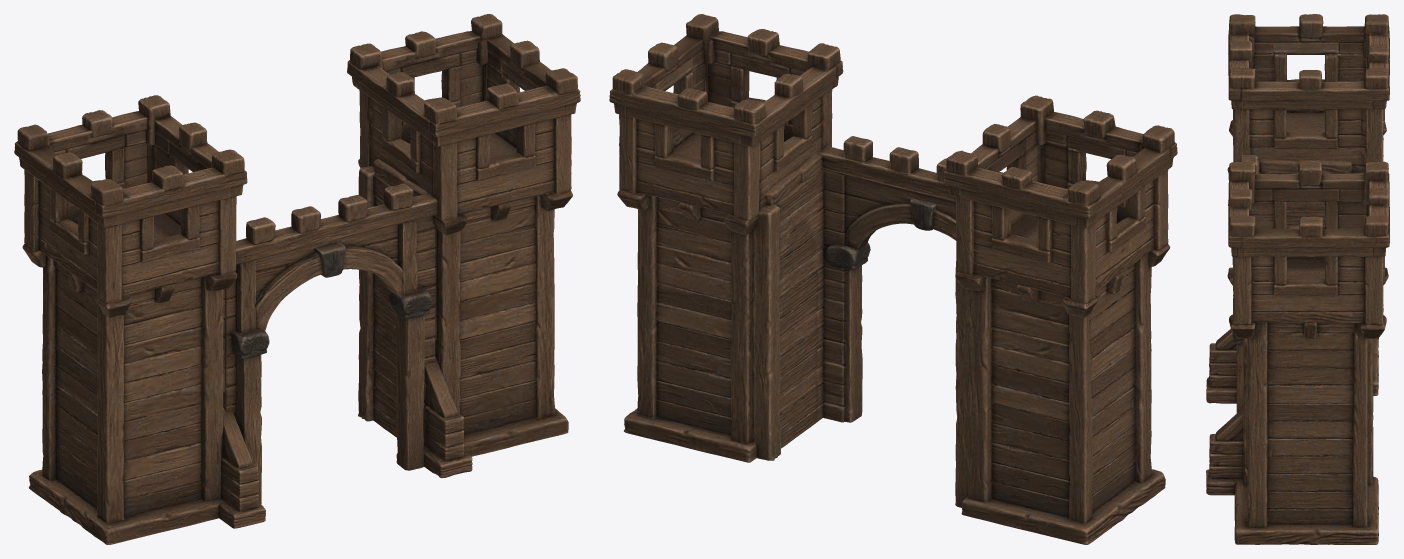
File: gate_small.glb
3 renders of one model, left to right at view 1: azimuth 30°, elevation 25°; view 2: azimuth 150°, elevation 25°; view 3: azimuth 270°, elevation 25°, orthographic. The views are drawn at different scales.
Bounding box in the file's own units: 1.9 × 1.36 × 0.6975.
Materials: 1 (1 with a texture image).
